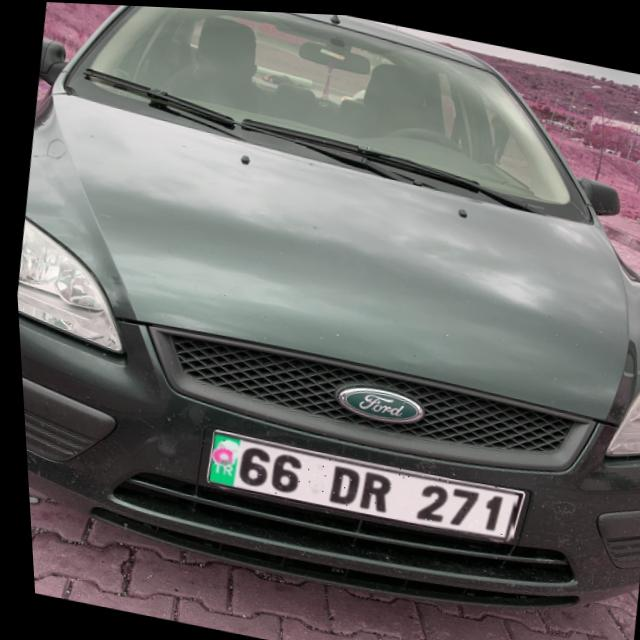license_plate: (202, 429, 514, 539)
